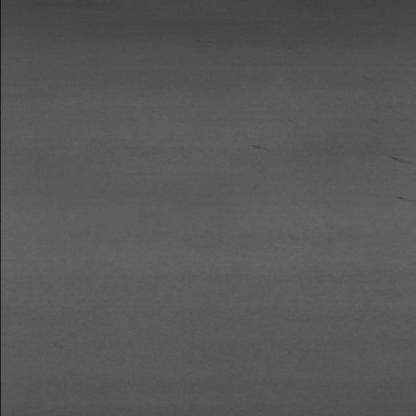water_spot: (238, 134, 270, 156), (384, 150, 412, 166), (393, 192, 412, 205)
